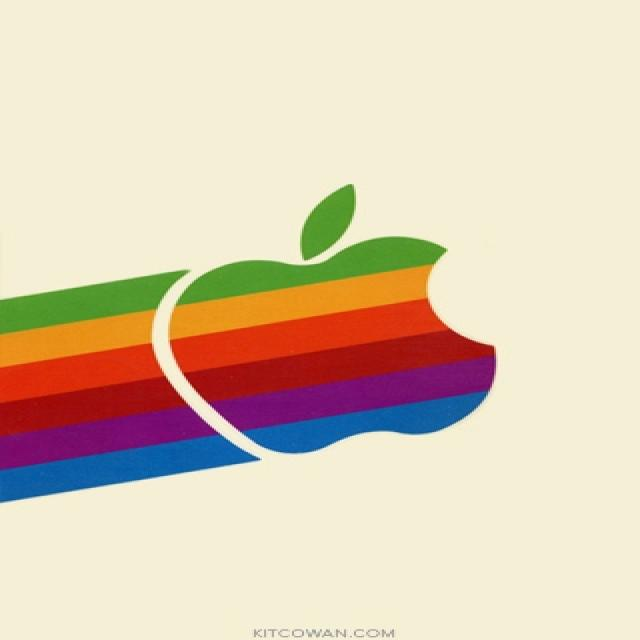apple: (155, 176, 521, 468)
